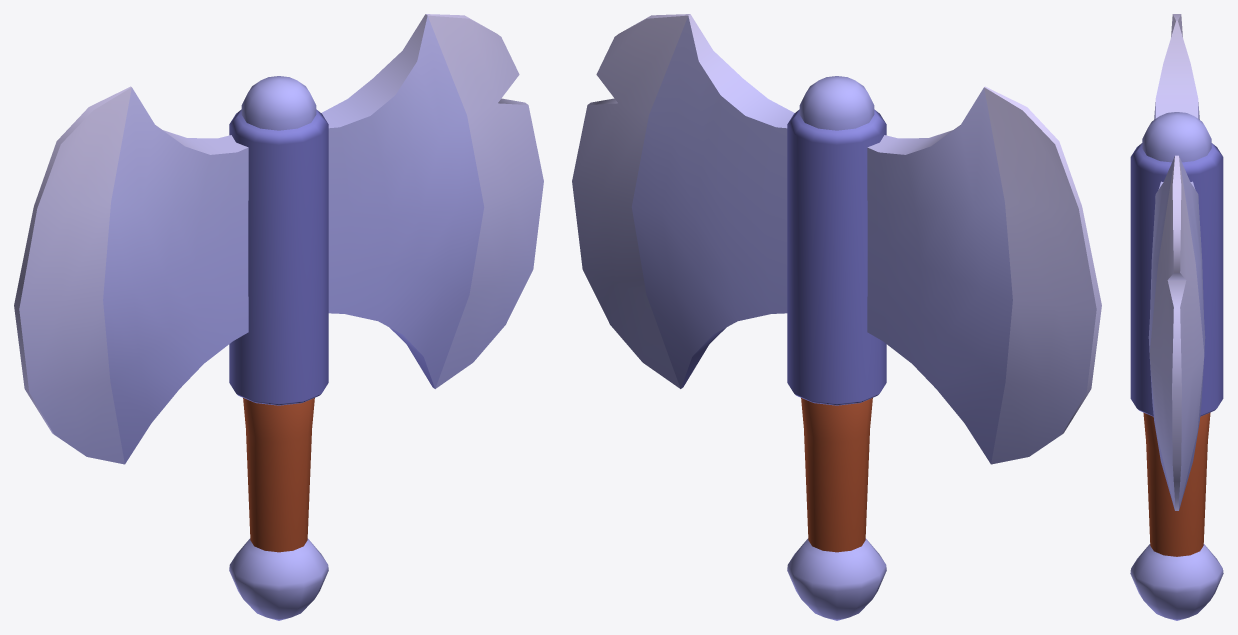
Rendered from Axe.fbx.
The picture shows the model from 3 angles, left to right: view 1: azimuth 30°, elevation 25°; view 2: azimuth 150°, elevation 25°; view 3: azimuth 270°, elevation 25°; orthographic projection. The views are drawn at different scales.
Visible parts, largest first — view 1: axe; view 2: axe; view 3: axe.
Boxes of the visible parts, x1,y1,x2,y2 form: axe: (14, 14, 543, 620); axe: (572, 14, 1101, 620); axe: (1130, 14, 1223, 620).
Size of the model in its own units: 137 by 142 by 22.47.
